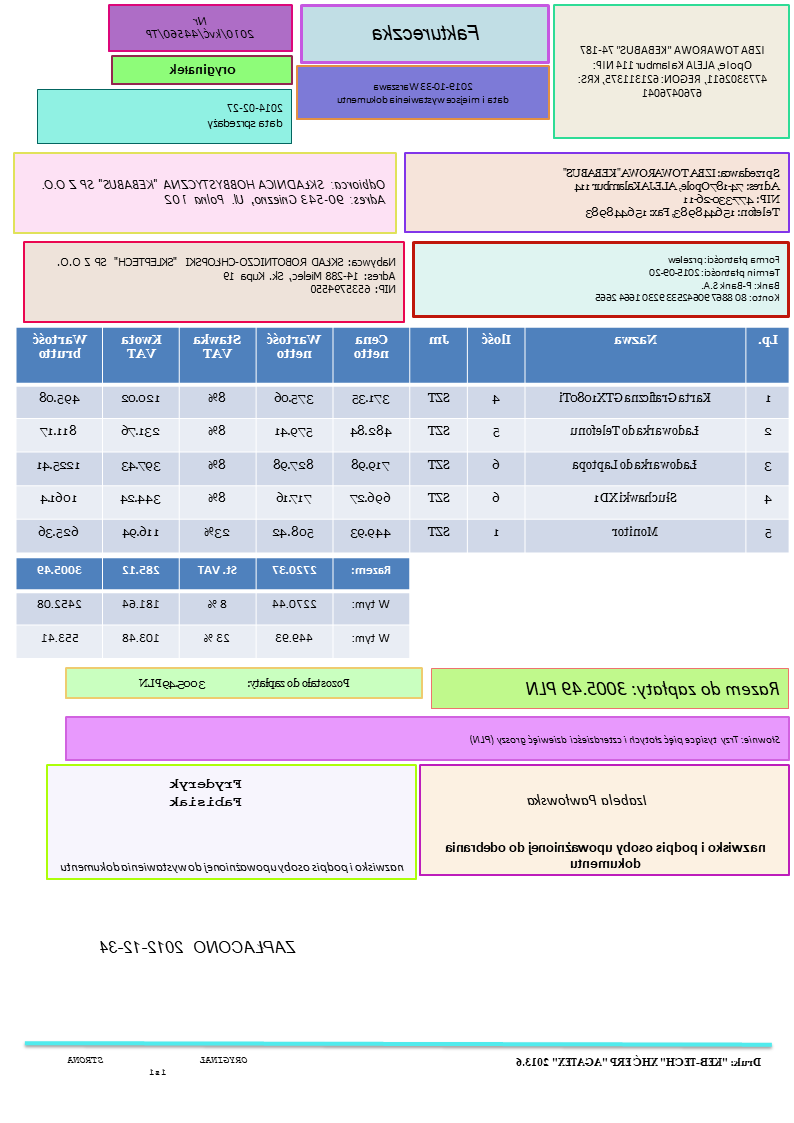Table: (15, 326, 791, 555), (14, 555, 412, 659)
TextBox: (55, 254, 398, 296), (561, 163, 783, 221), (576, 41, 770, 100), (39, 176, 390, 207), (444, 840, 768, 871), (595, 252, 783, 303), (58, 857, 407, 875), (523, 677, 782, 698), (334, 80, 512, 108), (467, 733, 782, 747), (66, 1053, 249, 1077), (513, 1054, 765, 1071), (96, 937, 299, 958), (143, 13, 257, 44), (137, 675, 353, 691), (165, 776, 245, 809), (206, 101, 285, 133), (371, 22, 481, 43), (525, 792, 649, 808), (167, 61, 239, 78)
